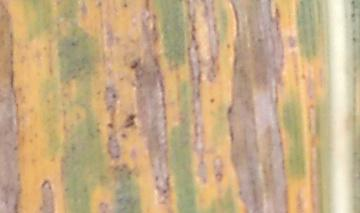tarspot: (121, 111, 137, 129), (127, 59, 143, 69), (121, 1, 131, 11), (119, 132, 129, 141), (208, 95, 216, 105), (160, 186, 168, 196), (106, 122, 115, 130), (94, 125, 101, 134), (224, 42, 233, 48), (111, 92, 118, 99), (107, 136, 114, 142), (63, 184, 69, 191)
